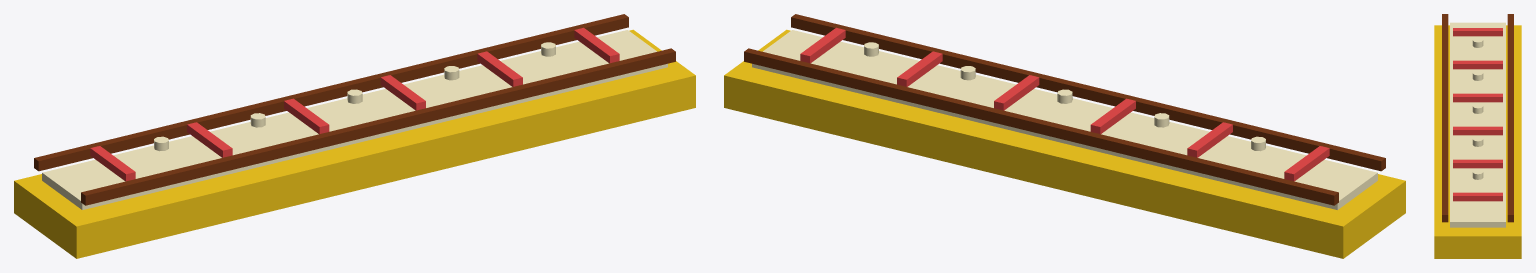
The model's file is toy_narrow_plank_s3.glb.
3 renders of one model, left to right at view 1: azimuth 30°, elevation 25°; view 2: azimuth 150°, elevation 25°; view 3: azimuth 270°, elevation 25°, orthographic. The views are drawn at different scales.
Visible parts, largest first — view 1: solid_1, solid_2, solid_4, solid_3, solid_9, solid_6, solid_10, solid_7, solid_8, solid_5; view 2: solid_1, solid_2, solid_3, solid_4, solid_9, solid_6, solid_10, solid_7, solid_8, solid_5; view 3: solid_2, solid_1, solid_3, solid_4, solid_6, solid_7, solid_8, solid_9, solid_10, solid_5, solid_15, solid_11 (+3 smaller).
Part boxes in pixels (x1,y1,x2,y2): solid_1: (14, 29, 695, 258); solid_2: (42, 30, 667, 209); solid_4: (81, 48, 675, 205); solid_3: (34, 14, 628, 171); solid_9: (477, 51, 522, 86); solid_6: (187, 122, 232, 157); solid_10: (574, 27, 619, 63); solid_7: (284, 98, 329, 134); solid_8: (380, 75, 425, 110); solid_5: (90, 146, 135, 181); solid_1: (724, 29, 1405, 258); solid_2: (752, 30, 1377, 209); solid_3: (744, 48, 1338, 205); solid_4: (791, 14, 1385, 171); solid_9: (897, 51, 942, 86); solid_6: (1187, 122, 1232, 157); solid_10: (800, 27, 845, 63); solid_7: (1090, 98, 1135, 134); solid_8: (994, 75, 1039, 110); solid_5: (1284, 146, 1329, 181); solid_2: (1450, 22, 1505, 227); solid_1: (1434, 25, 1521, 258); solid_3: (1507, 14, 1513, 222); solid_4: (1442, 14, 1448, 222); solid_6: (1453, 60, 1502, 69); solid_7: (1453, 93, 1502, 102); solid_8: (1453, 126, 1502, 135); solid_9: (1453, 159, 1502, 168); solid_10: (1453, 192, 1502, 201); solid_5: (1453, 28, 1502, 36); solid_15: (1472, 169, 1483, 179); solid_11: (1472, 38, 1483, 47).
Bounding box in the file's own units: 6.4 × 0.67 × 1.12.
